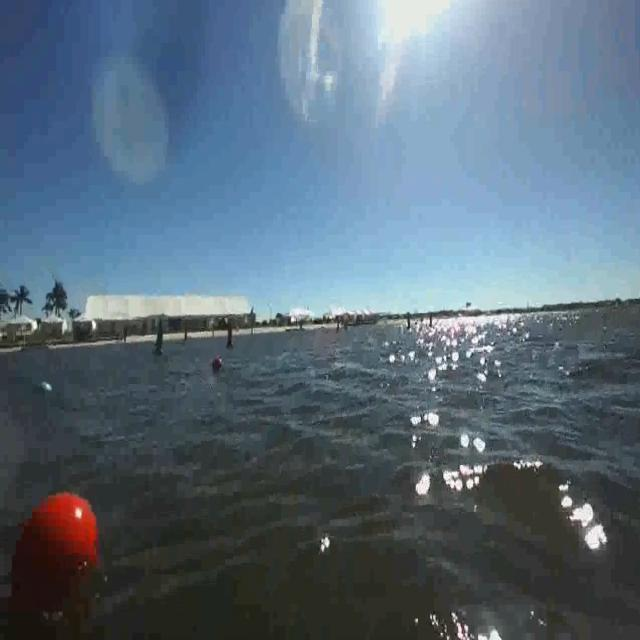black-buoy: (212, 356, 222, 369)
green-buoy: (38, 384, 54, 396)
green-column-buoy: (152, 317, 168, 358)
red-buoy: (9, 495, 101, 608)
